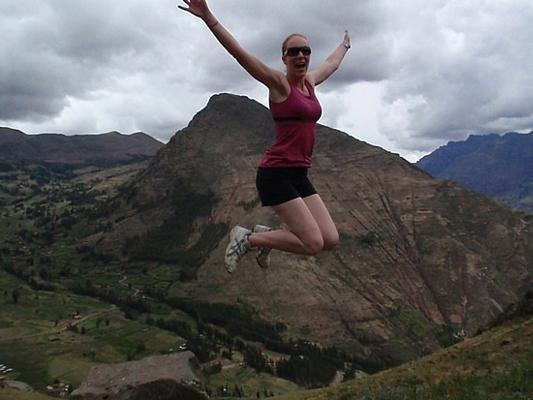person: (183, 1, 354, 269)
